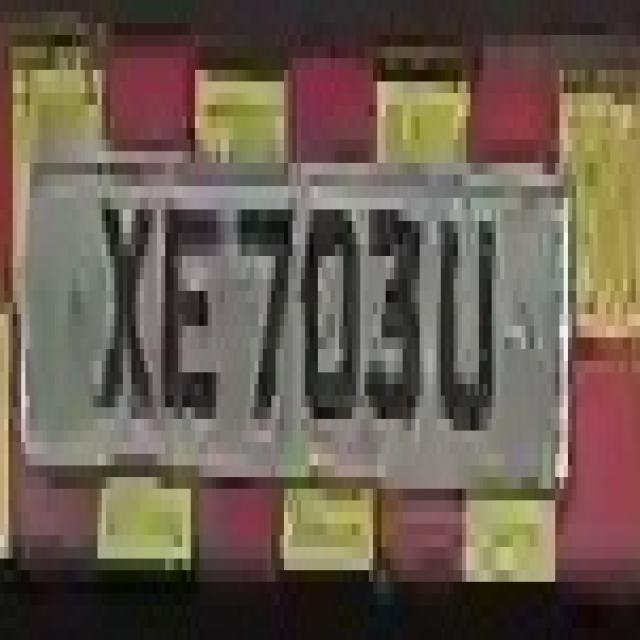0: (301, 174, 364, 500)
3: (356, 151, 437, 442)
7: (237, 174, 301, 430)
E: (157, 163, 216, 442)
U: (432, 175, 509, 477)
X: (94, 174, 148, 430)
